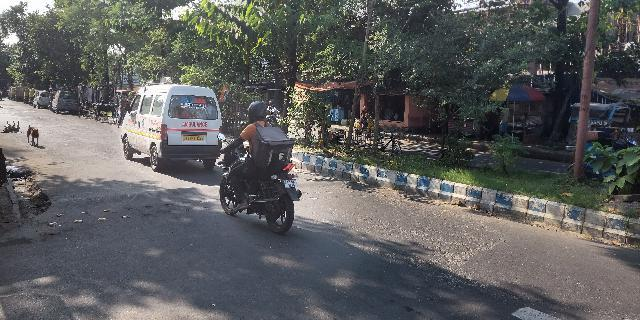Motorbike: (216, 96, 303, 231)
Van: (116, 81, 220, 172)
